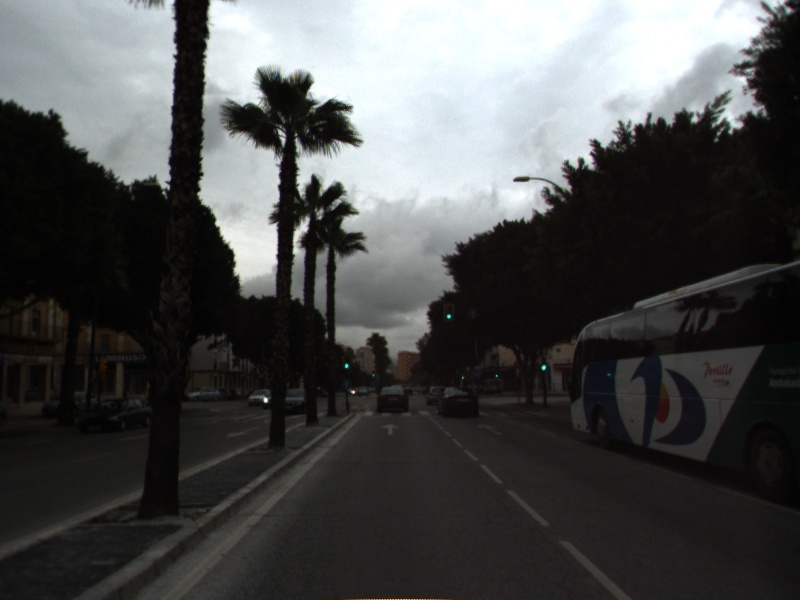STRAIGHT: (474, 421, 506, 438), (378, 421, 402, 438)
